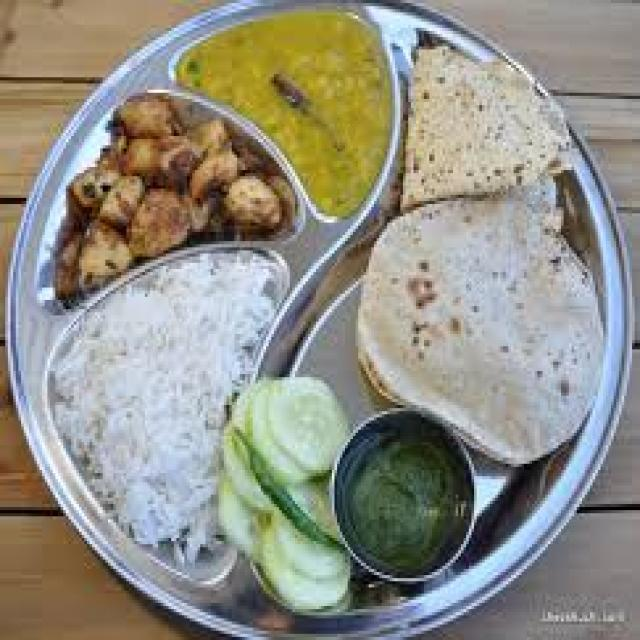dal: (193, 6, 394, 201)
papad: (393, 40, 559, 209)
rice: (354, 183, 572, 429), (87, 268, 237, 540)
roti: (66, 86, 271, 289)
sweet: (332, 417, 480, 579)
